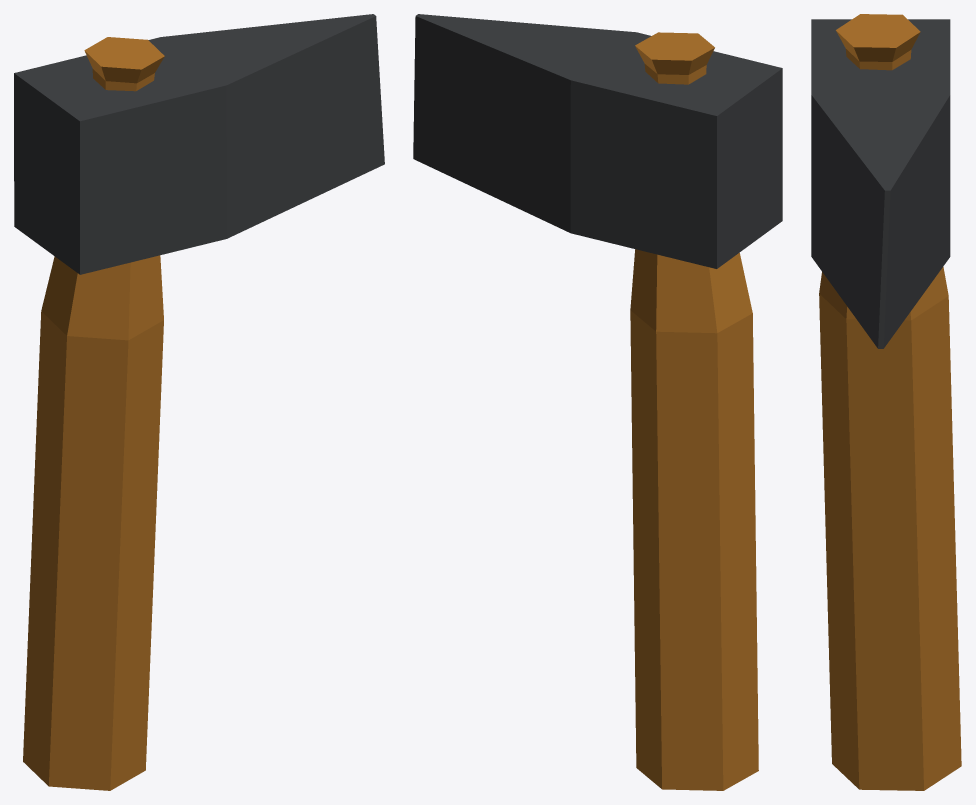
File: Iron axe.fbx
3 renders of one model, left to right at view 1: azimuth 30°, elevation 25°; view 2: azimuth 150°, elevation 25°; view 3: azimuth 270°, elevation 25°, orthographic. The views are drawn at different scales.
Visible parts, largest first — view 1: axe.001; view 2: axe.001; view 3: axe.001.
Boxes of the visible parts, box(x1,y1,x2,y2) form: axe.001: box(14, 14, 384, 790); axe.001: box(413, 14, 782, 790); axe.001: box(811, 14, 961, 790).
Size of the model in its own units: 0.2273 by 0.4565 by 0.0825.
